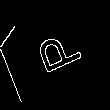P_SW: (27, 28, 83, 82)
